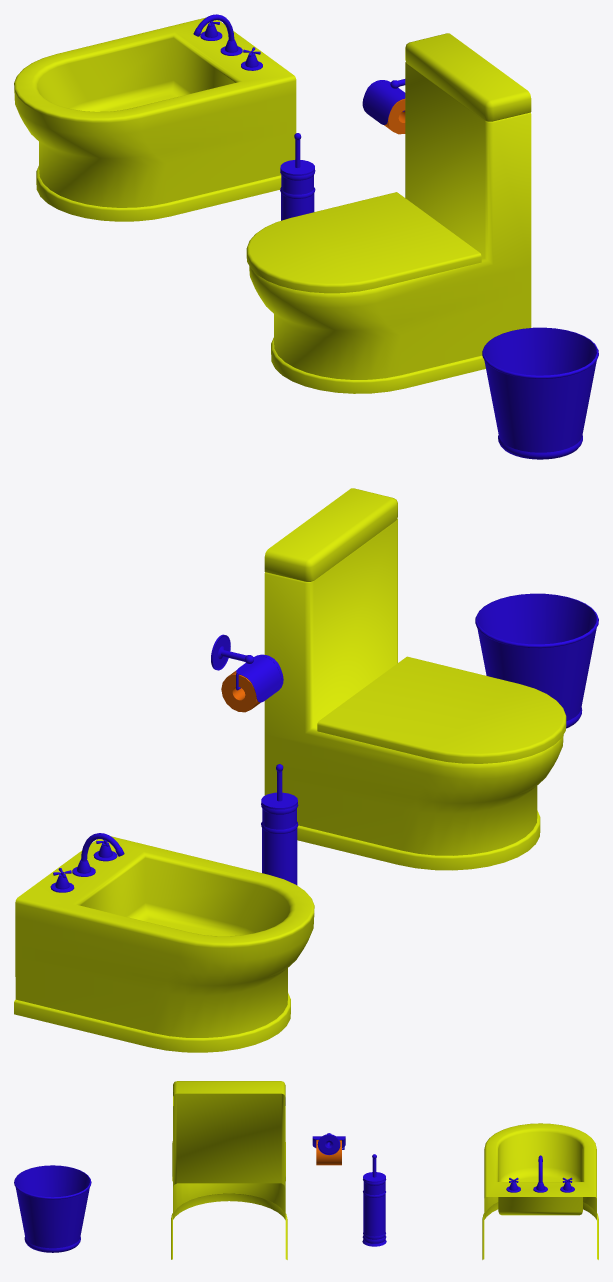
File: sm_toilet.fbx
3 views of the same model, one above another, from view 1: azimuth 30°, elevation 25°; view 2: azimuth 150°, elevation 25°; view 3: azimuth 270°, elevation 25° (orthographic). The views are drawn at different scales.
Visible parts, largest first — view 1: sm_toilet.001, sm_bidet, sm_toilet, sm_trashcan, sm_toilet_brush, sm_toilet_paper.004; view 2: sm_toilet.001, sm_bidet, sm_toilet, sm_trashcan, sm_toilet_brush, sm_toilet_paper.004, sm_toilet_paper.002; view 3: sm_toilet.001, sm_bidet, sm_trashcan, sm_toilet_brush, sm_toilet_paper.002, sm_toilet_paper.003.
Boxes of the visible parts, box(x1,y1,x2,y2) form: sm_toilet.001: box(249, 33, 531, 393); sm_bidet: box(14, 17, 296, 221); sm_toilet: box(246, 192, 481, 293); sm_trashcan: box(482, 327, 598, 459); sm_toilet_brush: box(280, 170, 315, 220); sm_toilet_paper.004: box(362, 80, 405, 125); sm_toilet.001: box(264, 488, 563, 870); sm_bidet: box(14, 836, 314, 1052); sm_toilet: box(317, 656, 566, 763); sm_trashcan: box(475, 593, 598, 728); sm_toilet_brush: box(261, 803, 298, 885); sm_toilet_paper.004: box(236, 654, 283, 702); sm_toilet_paper.002: box(221, 670, 260, 712); sm_toilet.001: box(171, 1081, 287, 1259); sm_bidet: box(482, 1123, 598, 1259); sm_trashcan: box(14, 1165, 91, 1252); sm_toilet_brush: box(362, 1179, 386, 1246); sm_toilet_paper.002: box(316, 1140, 341, 1165); sm_toilet_paper.003: box(317, 1134, 340, 1155).
Bounding box in the file's own units: 88.5 × 92.66 × 282.
